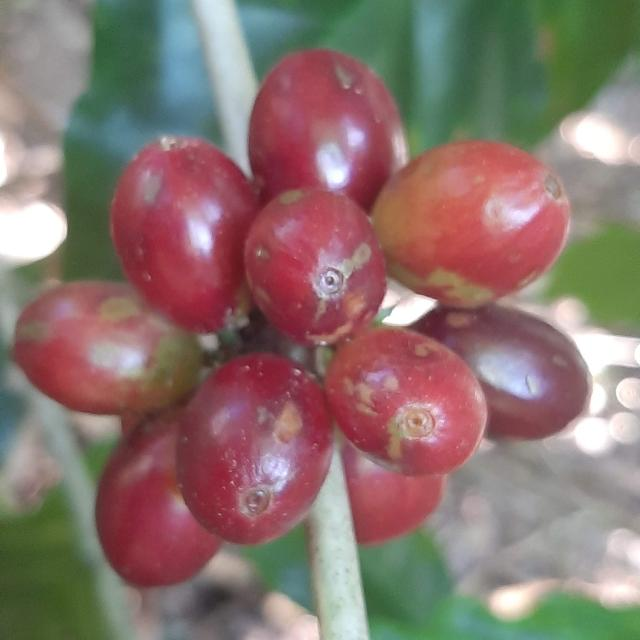red: (177, 354, 333, 545), (110, 136, 258, 333), (249, 48, 408, 210), (412, 304, 593, 440), (325, 328, 488, 477), (244, 188, 386, 346), (95, 409, 220, 588), (343, 442, 446, 546)
yellow: (372, 140, 571, 307), (12, 281, 202, 414)
